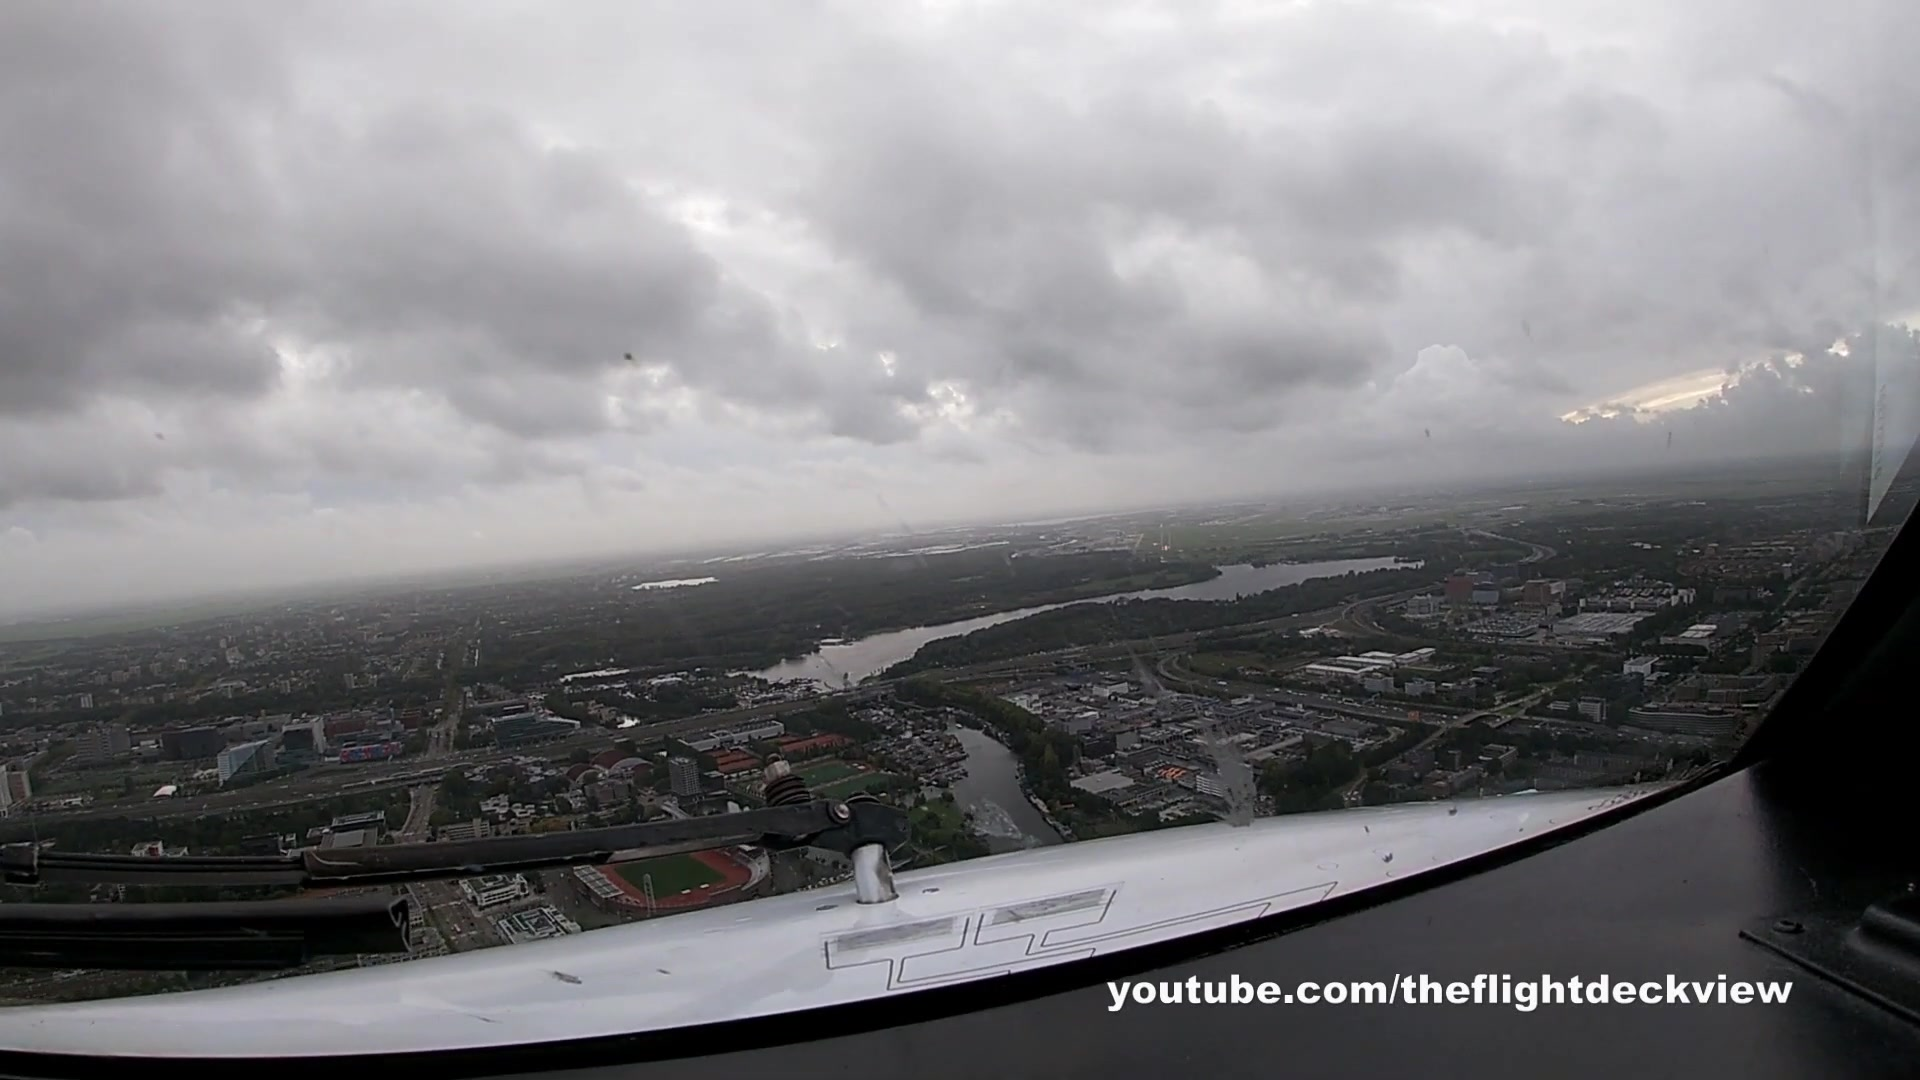runway: (1158, 527, 1174, 553)
